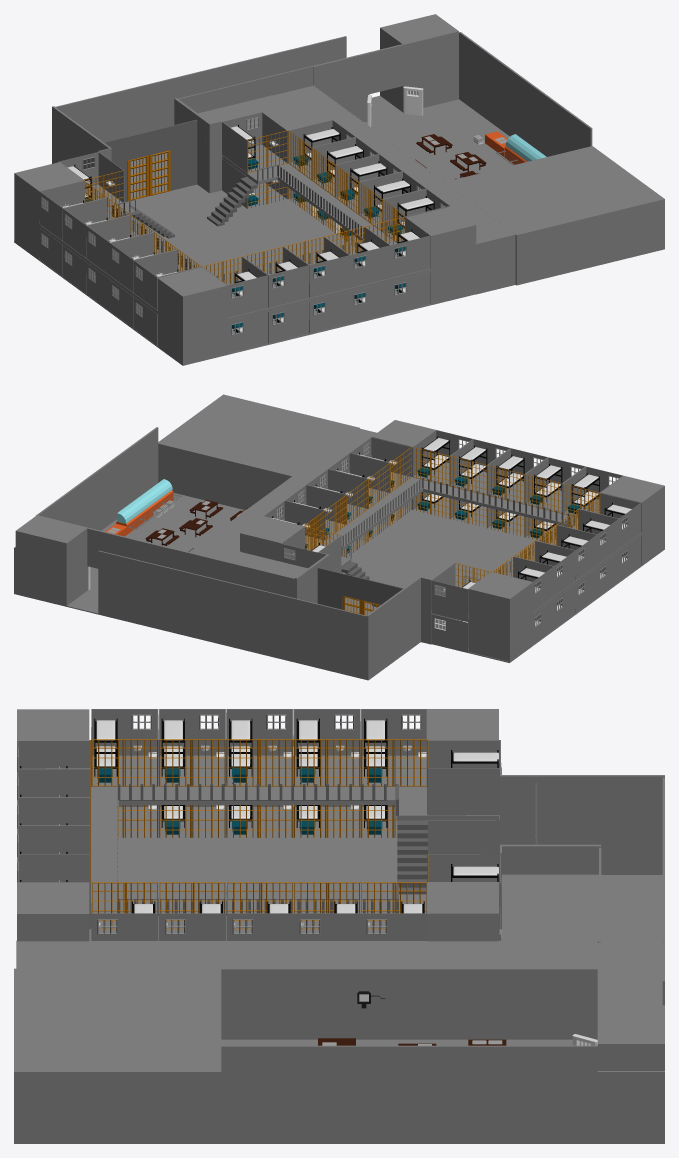
The model's file is Hapishane_Binas.fbx.
The picture shows the model from 3 angles, top to bottom: view 1: azimuth 30°, elevation 25°; view 2: azimuth 150°, elevation 25°; view 3: azimuth 270°, elevation 25°; orthographic projection. The views are drawn at different scales.
Parts seen in each view (by area): view 1: zemin kat, kat 2, Cube, duvarlar.032, duvarlar.033, duvarlar.021, duvarlar.023, duvarlar.024, duvarlar.020, duvarlar.019, duvarlar.017, duvarlar.025 (+28 smaller); view 2: zemin kat, kat 2, Cube, duvarlar.033, duvarlar.027, duvarlar.023, duvarlar.025, duvarlar.024, duvarlar.028, duvarlar.029, duvarlar.030, duvarlar.031 (+28 smaller); view 3: zemin kat, kat 2, duvarlar.033, duvarlar.019, duvarlar.020, duvarlar.017, duvarlar.021, duvarlar.018, duvarlar.016, merdiven2, duvarlar.026, duvarlar.023 (+23 smaller).
Boxes of the visible parts, x1,y1,x2,y2 form: zemin kat: (14, 14, 664, 365); kat 2: (14, 101, 476, 364); Cube: (104, 119, 197, 201); duvarlar.032: (222, 112, 287, 173); duvarlar.033: (58, 152, 124, 207); duvarlar.021: (133, 249, 200, 309); duvarlar.023: (243, 246, 308, 307); duvarlar.024: (284, 237, 349, 297); duvarlar.020: (110, 232, 176, 292); duvarlar.019: (86, 215, 153, 275); duvarlar.017: (63, 198, 130, 258); duvarlar.025: (325, 227, 390, 287); zemin kat: (14, 394, 664, 680); kat 2: (240, 420, 664, 661); Cube: (317, 567, 403, 609); duvarlar.033: (431, 563, 491, 619); duvarlar.027: (350, 437, 411, 492); duvarlar.023: (524, 457, 585, 513); duvarlar.025: (450, 439, 510, 495); duvarlar.024: (487, 448, 547, 504); duvarlar.028: (328, 453, 389, 508); duvarlar.029: (306, 469, 368, 524); duvarlar.030: (285, 485, 346, 540); duvarlar.031: (263, 500, 324, 550); zemin kat: (14, 767, 664, 1143); kat 2: (17, 709, 498, 941); duvarlar.033: (427, 740, 500, 815); duvarlar.019: (226, 709, 293, 786); duvarlar.020: (158, 709, 225, 786); duvarlar.017: (293, 709, 360, 786); duvarlar.021: (91, 709, 158, 786); duvarlar.018: (360, 709, 428, 786); duvarlar.016: (428, 815, 499, 854); merdiven2: (397, 820, 427, 894); duvarlar.026: (17, 854, 90, 929); duvarlar.023: (17, 768, 90, 797).
Size of the model in its own units: 42477 by 5922 by 34793.
